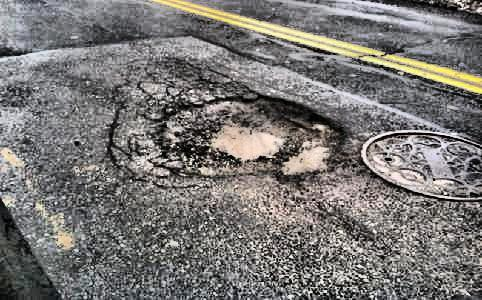pothole: (164, 94, 345, 177)
